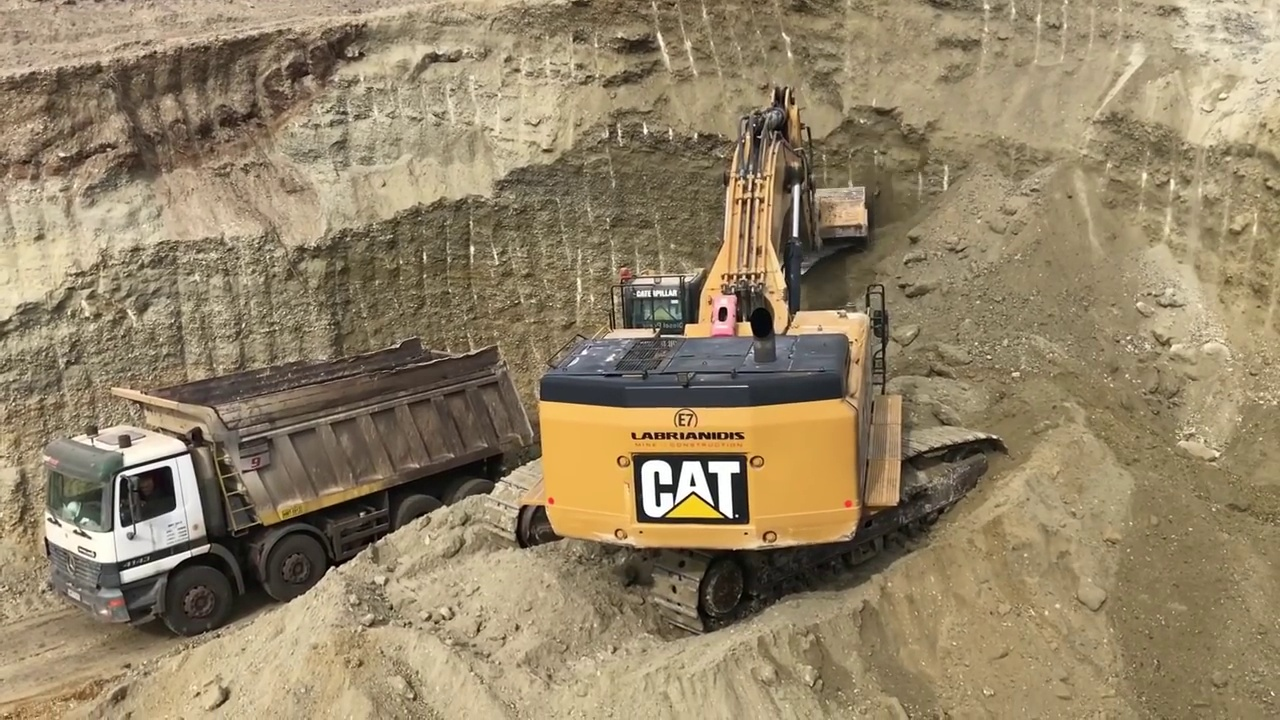excavator: (478, 75, 1013, 646)
truck: (36, 336, 537, 635)
